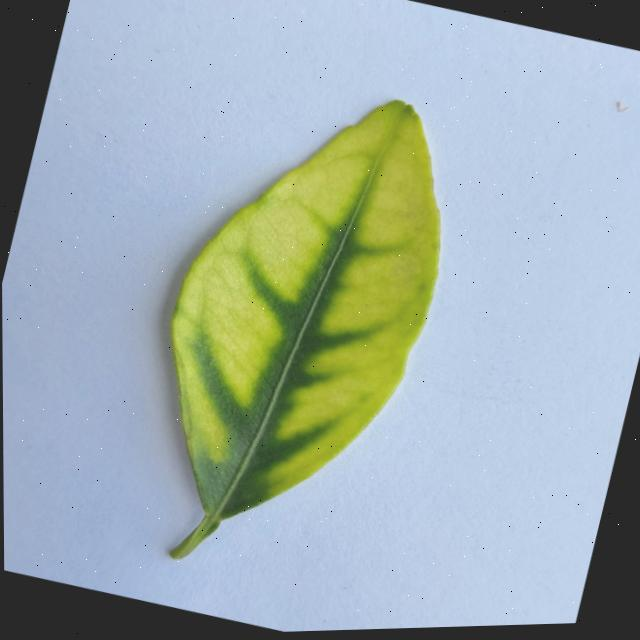greening: (171, 100, 439, 558)
